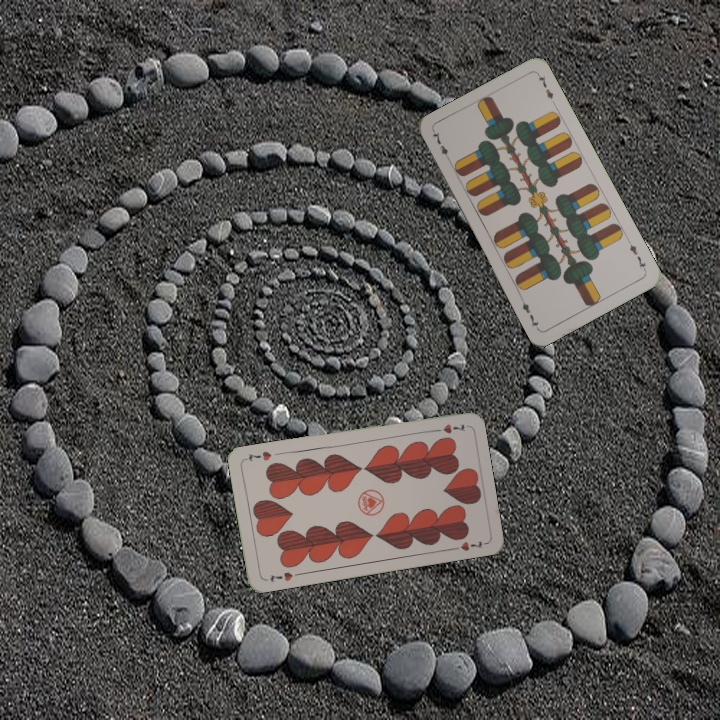E7: (624, 236, 649, 273), (429, 128, 454, 165)
H7: (266, 568, 302, 585), (428, 420, 467, 435)
